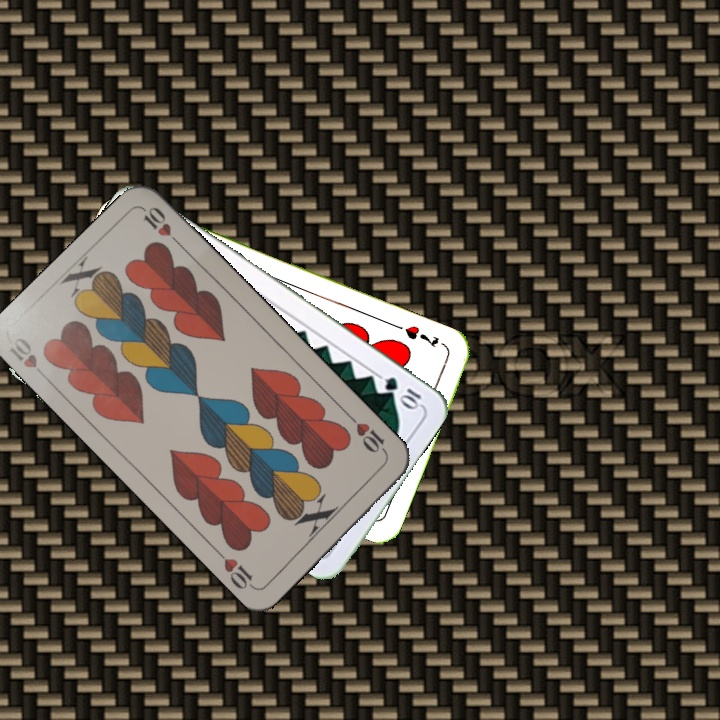G10: (380, 372, 426, 412)
H10: (5, 333, 52, 384), (345, 411, 391, 458)
H7: (401, 321, 441, 351)
